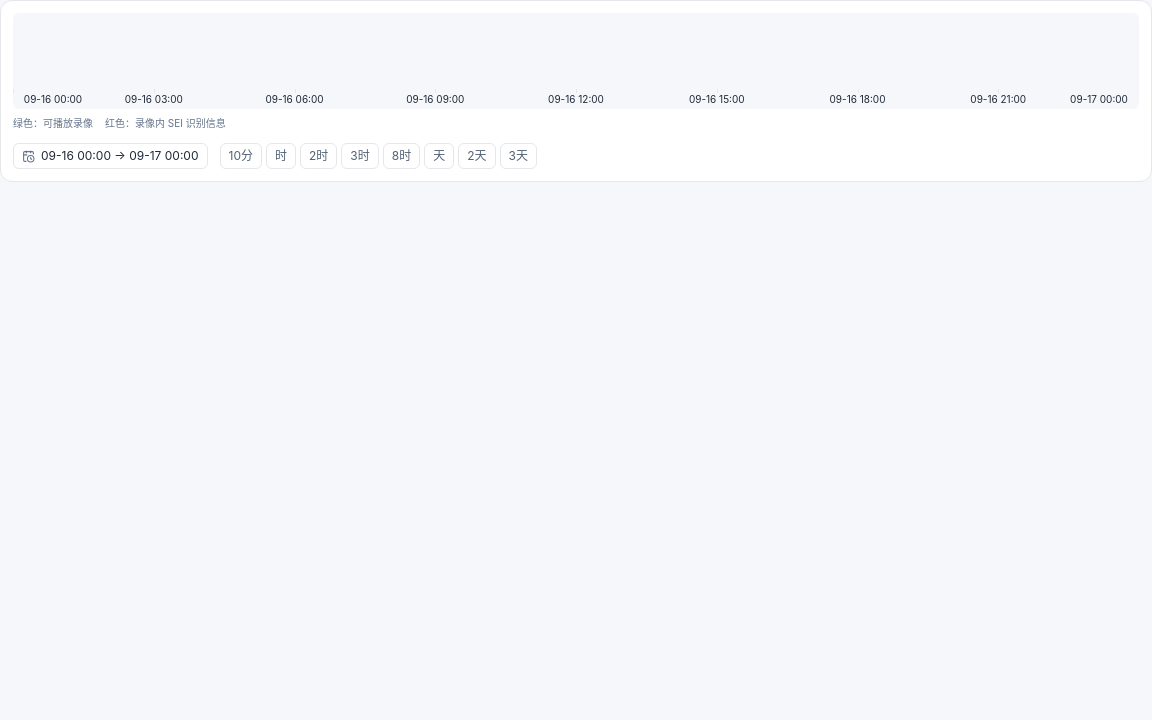
Test case: RecordingTimeline —— 时间范围触发器/弹窗/预设（与识别历史页共用同一套组件） › 触发按钮显示当前窗口范围，点击后打开时间范围弹窗
Click the button with test id "range-trigger": (110, 156) x1=13 y1=143 x2=208 y2=169
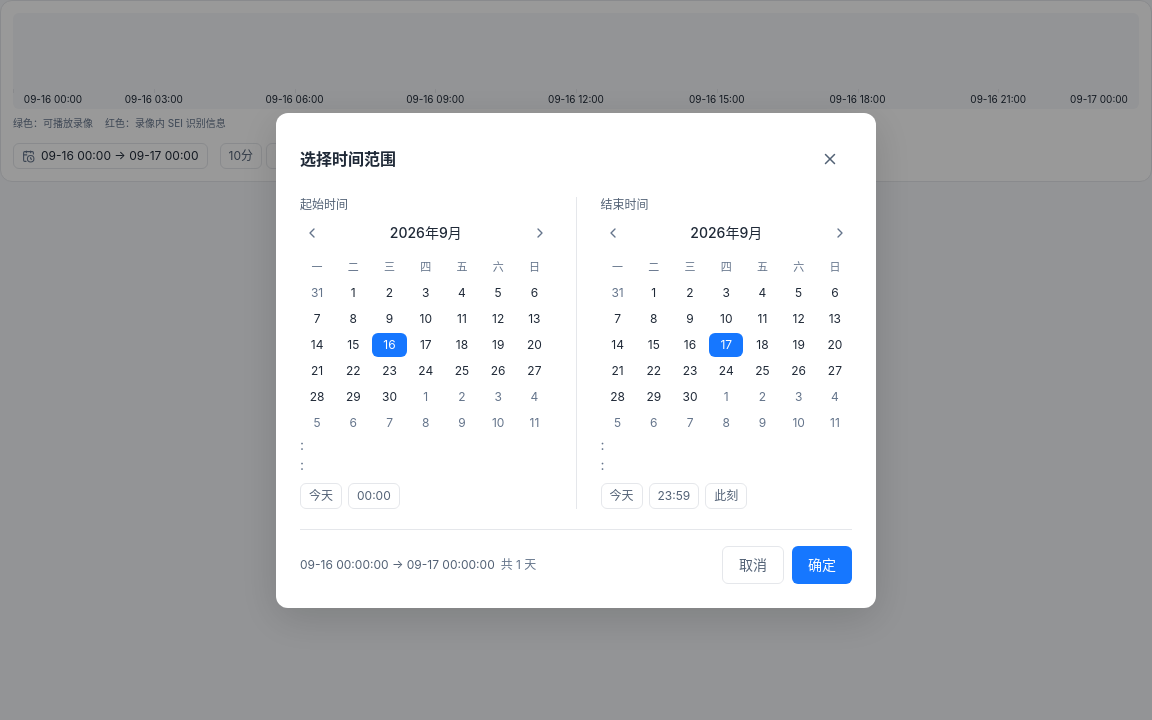
Expected: the dialog "选择时间范围" is shown
